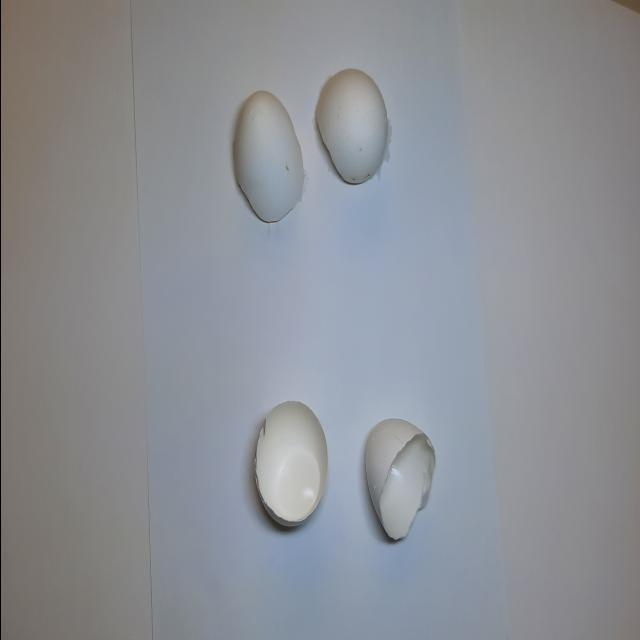egg shell: (230, 77, 308, 226), (248, 394, 330, 534), (310, 59, 394, 190), (360, 410, 440, 546)
